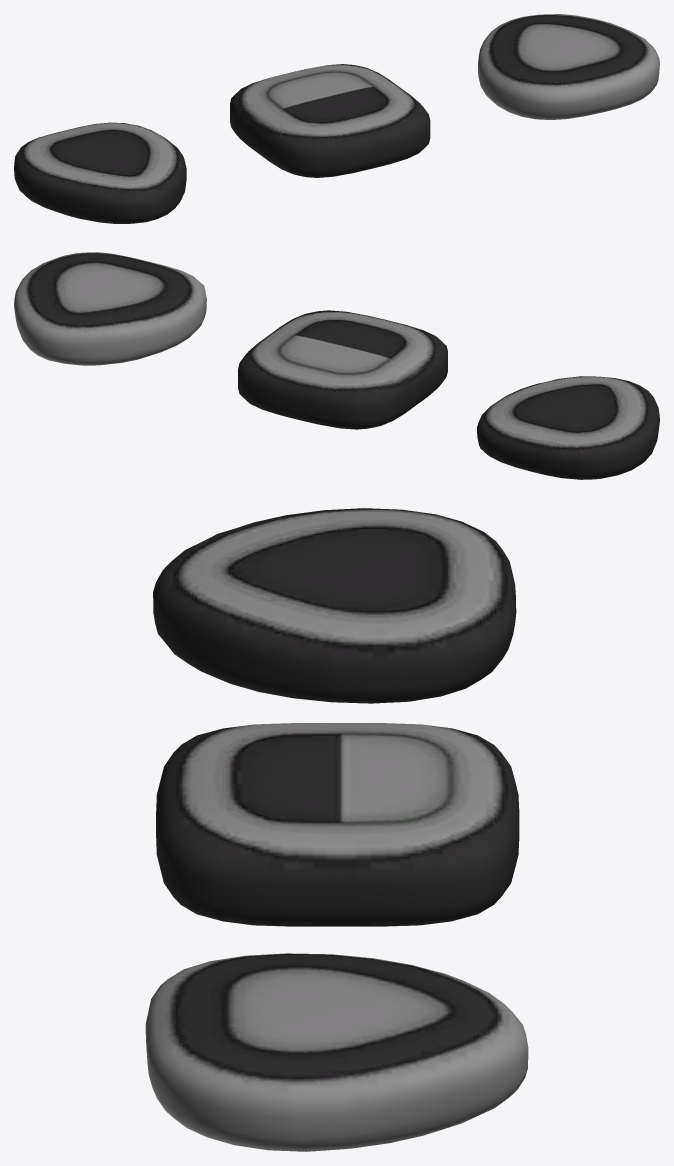
The model's file is Gems.fbx.
3 views of the same model, one above another, from view 1: azimuth 30°, elevation 25°; view 2: azimuth 150°, elevation 25°; view 3: azimuth 270°, elevation 25° (orthographic). The views are drawn at different scales.
Parts seen in each view (by area): view 1: Gems; view 2: Gems; view 3: Gems.
Boxes of the visible parts, left/top/right/bottom form: Gems: left=14, top=14, right=659, bottom=223; Gems: left=14, top=252, right=659, bottom=479; Gems: left=145, top=508, right=528, bottom=1151.
Size of the model in its own units: 1.34 by 0.1004 by 0.365.
